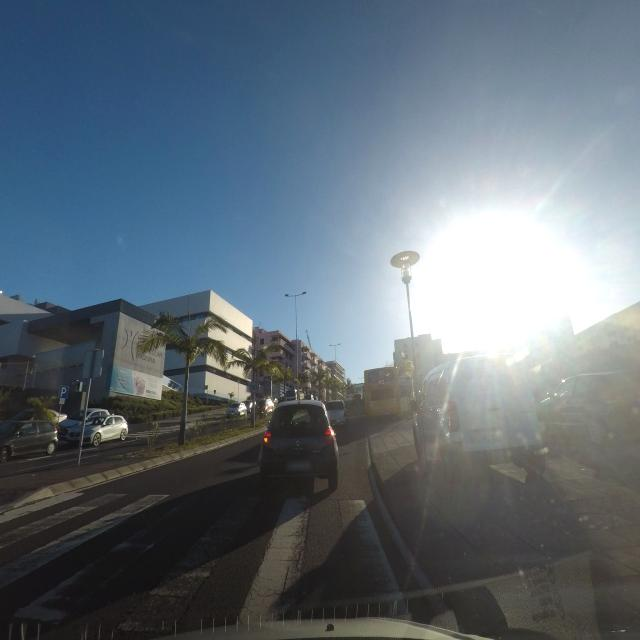car: (412, 354, 550, 480), (542, 370, 640, 450), (259, 399, 339, 494), (0, 417, 59, 464), (57, 407, 112, 444), (72, 413, 129, 448), (324, 399, 348, 426), (224, 402, 248, 419)
